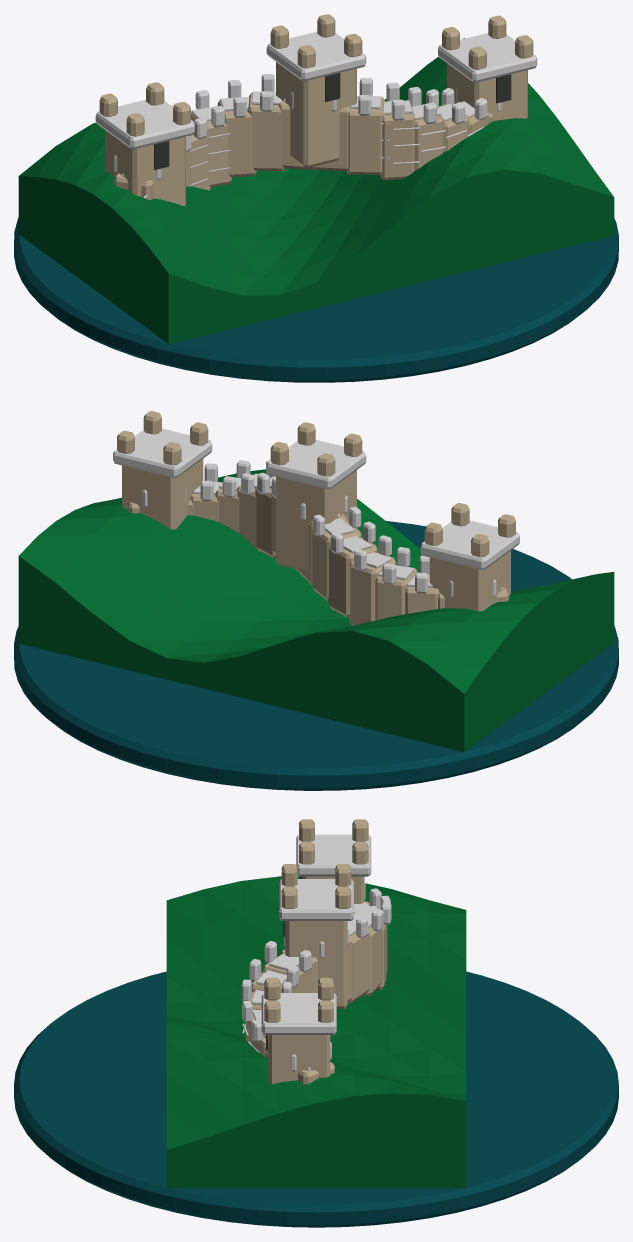
Rendered from great-wall-of-china.glb.
3 views of the same model, one above another, from view 1: azimuth 30°, elevation 25°; view 2: azimuth 150°, elevation 25°; view 3: azimuth 270°, elevation 25° (orthographic).
Visible parts, largest first — view 1: body, pedestal; view 2: body, pedestal; view 3: body, pedestal.
Part boxes in pixels (left/top/right/bottom): body: left=18, top=14, right=614, bottom=343; pedestal: left=14, top=218, right=618, bottom=382; body: left=18, top=411, right=614, bottom=751; pedestal: left=14, top=521, right=618, bottom=790; body: left=166, top=819, right=466, bottom=1188; pedestal: left=14, top=971, right=618, bottom=1227.
Bounding box in the file's own units: 4.4 × 1.8 × 4.4.
